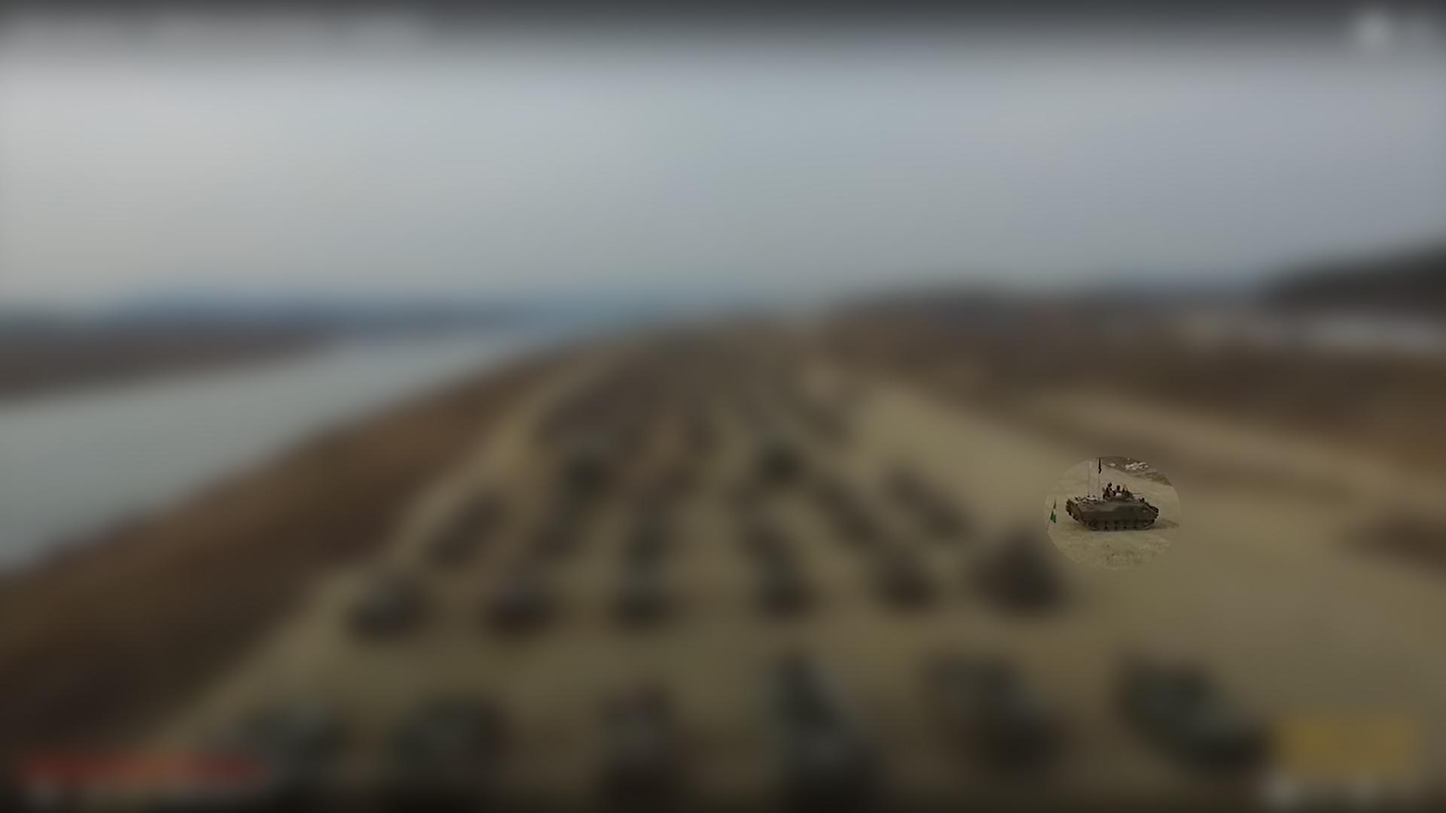armored_car: (1062, 487, 1165, 541)
